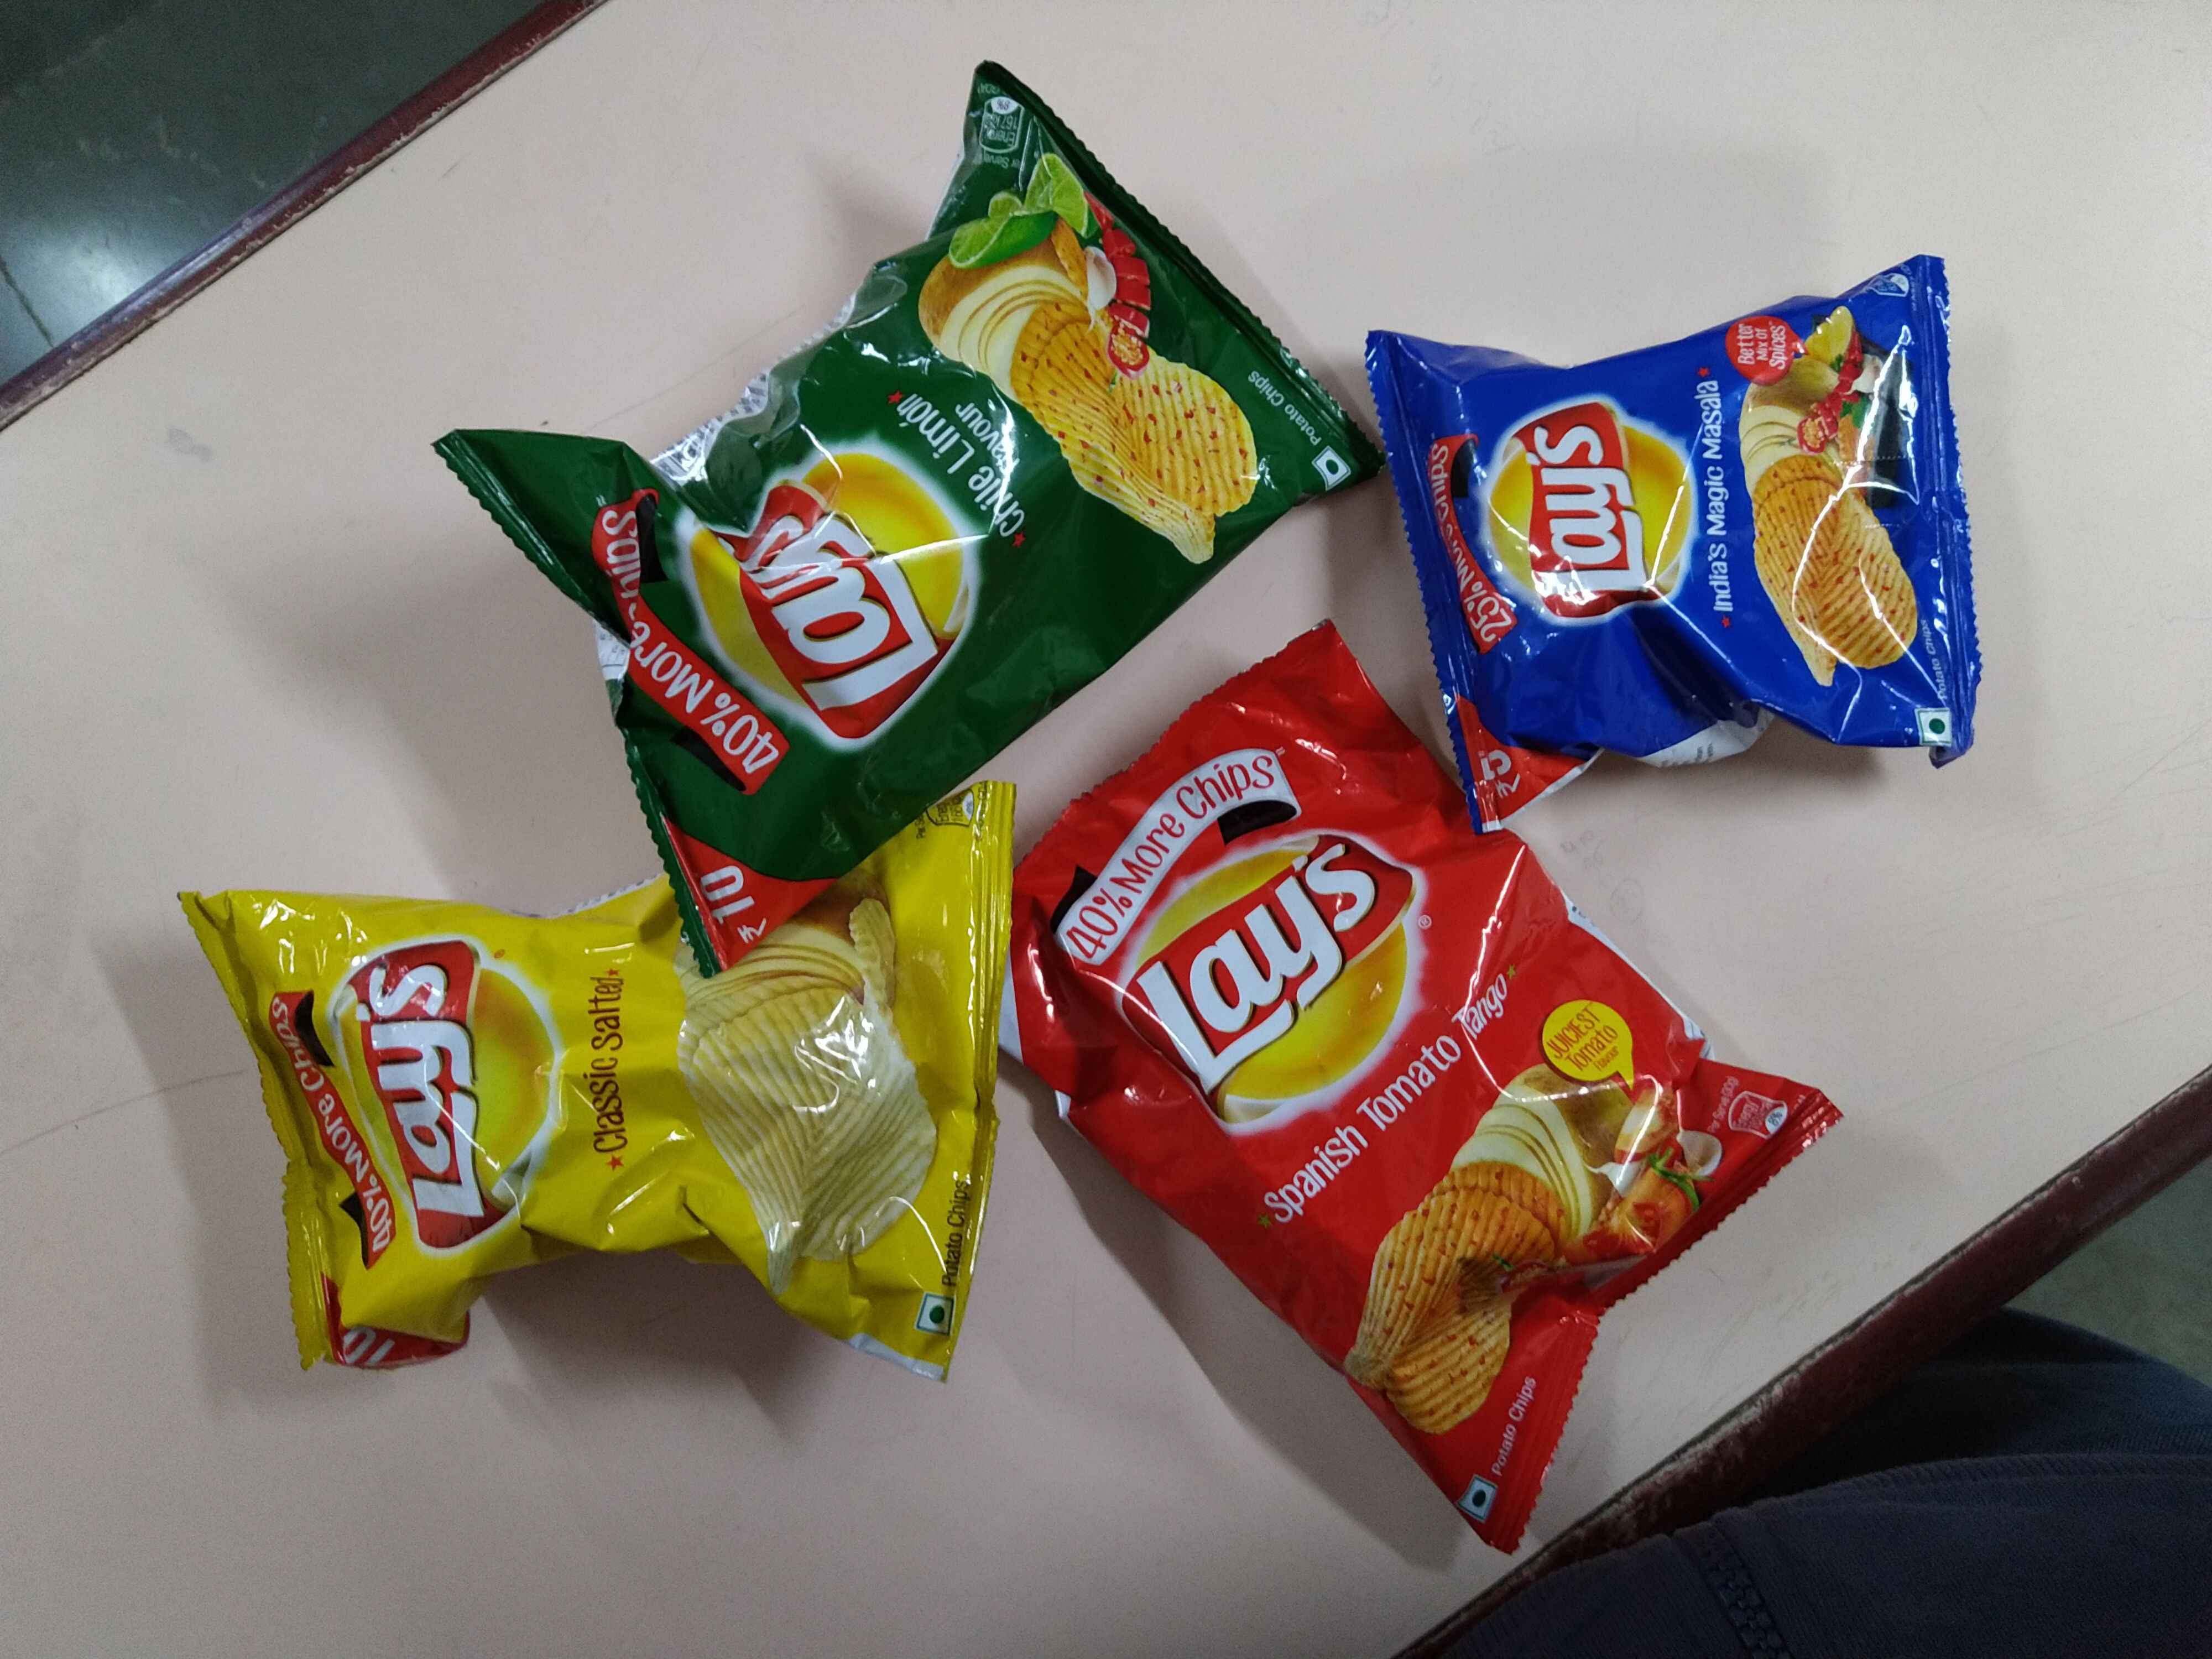Lays: (1125, 831, 1432, 1122), (679, 464, 986, 721), (348, 920, 561, 1270), (1470, 396, 1709, 627)
